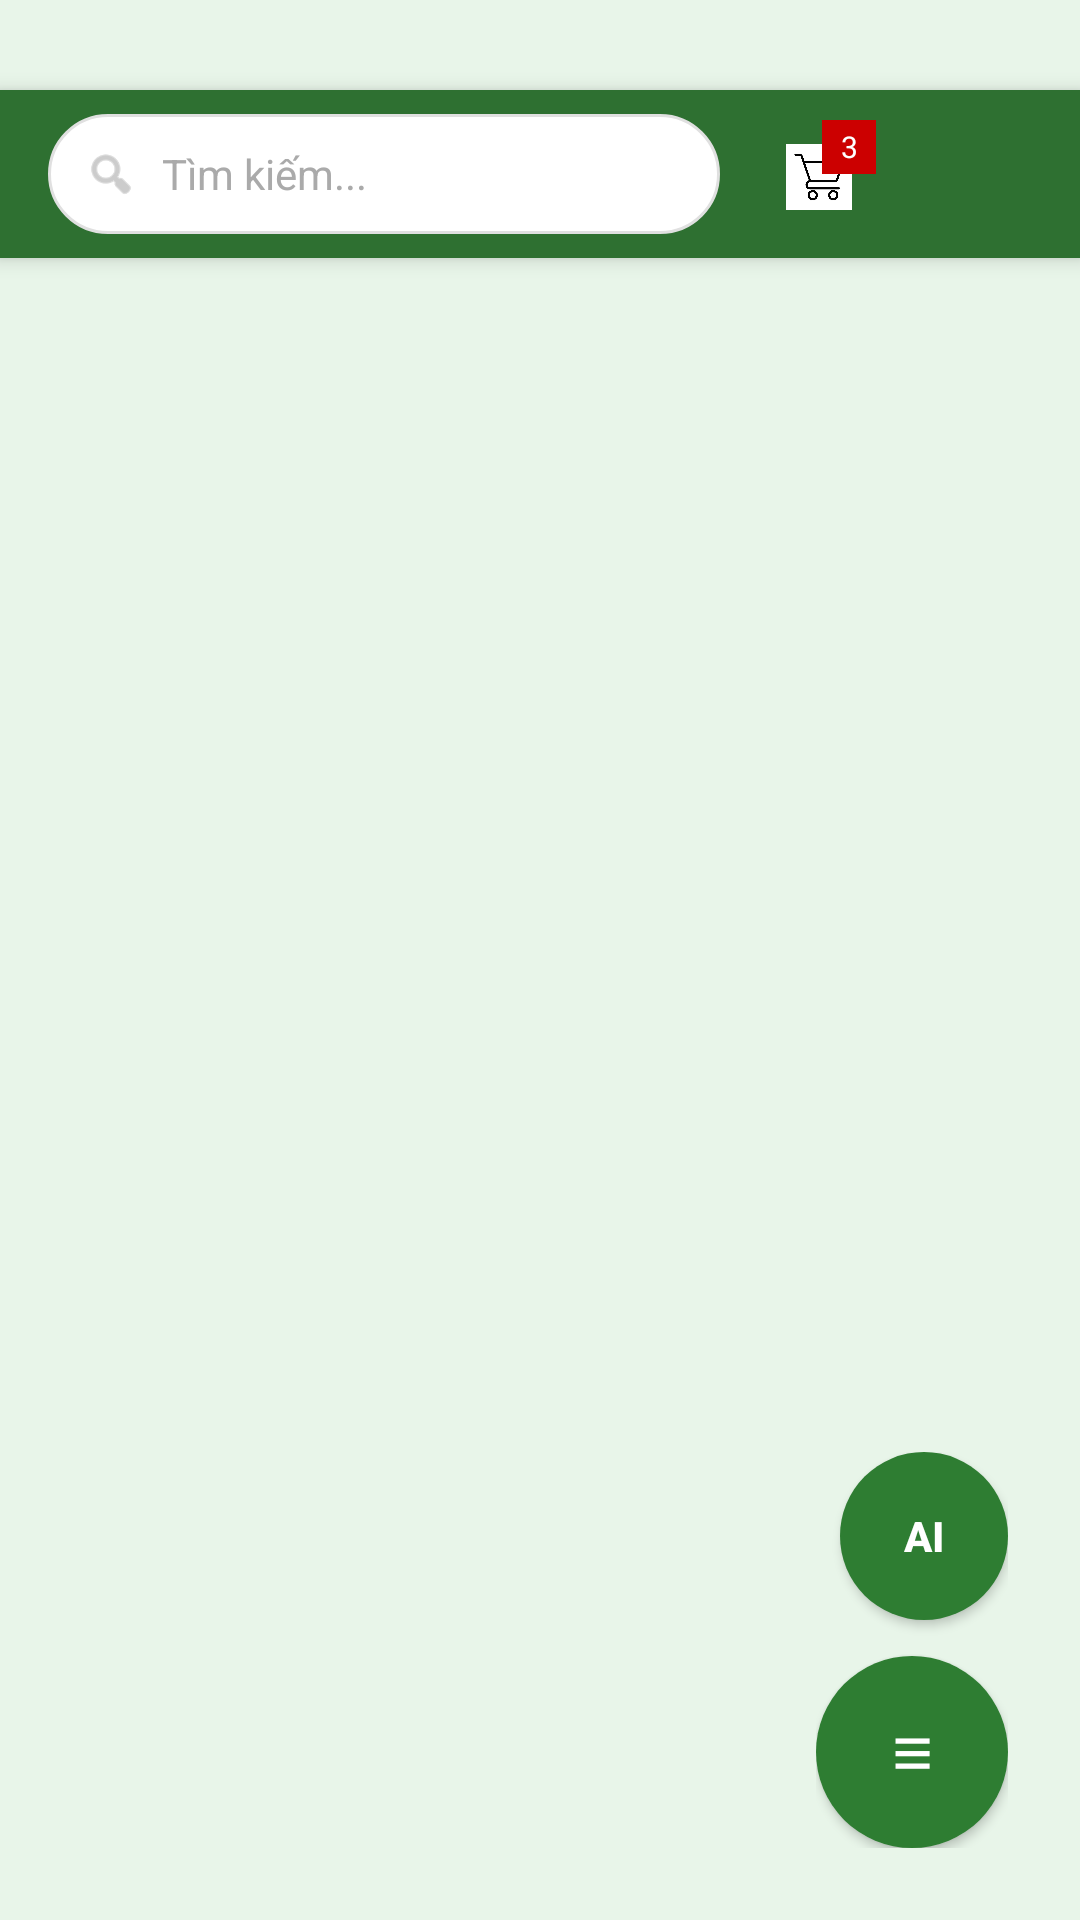

Icons on this 1080×1920 Android screen, each with its box as (x1, y1, x2, y2):
search: (91, 155, 131, 194)
